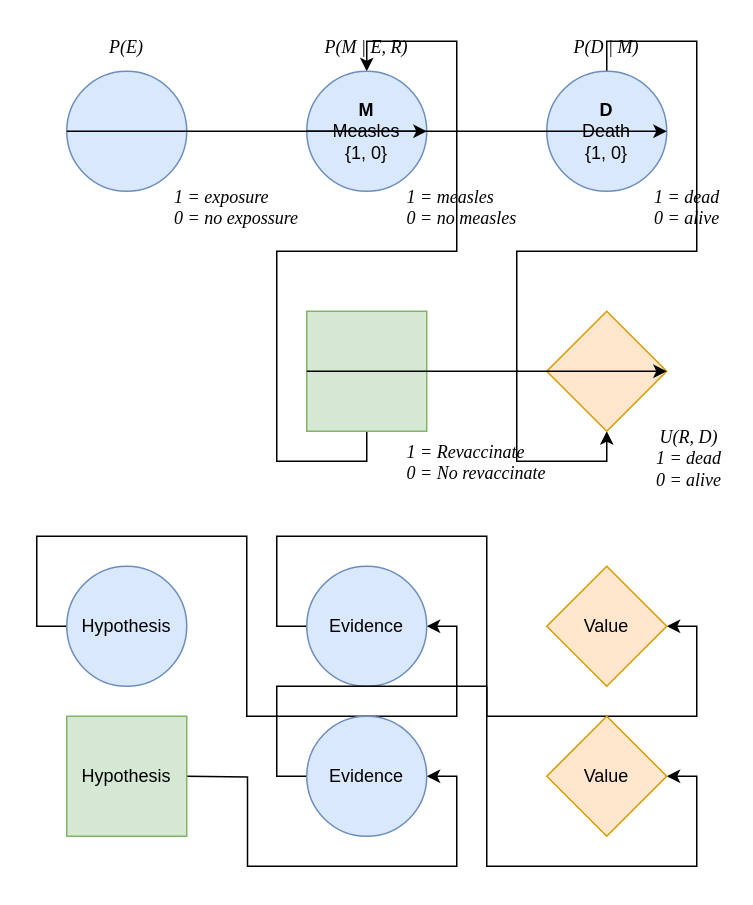
Some shapes in this 753 by 905 pixel diagram are drawn without their labels. The centre of each missing label's shape, as x and y in pixels:
"E Exposure {1, 0}" belongs at [126,130].
"R Revaccinate {1, 0}" belongs at [366,370].
"V Value {1, 0}" belongs at [606,370].
